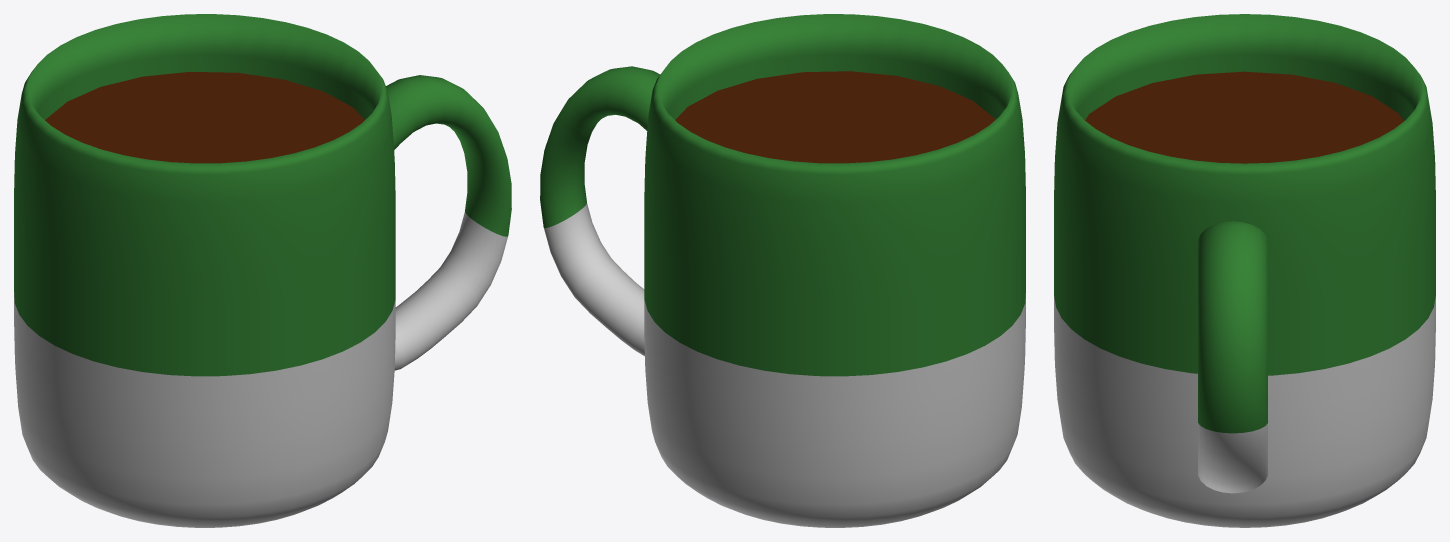
File: coffee.fbx
3 renders of one model, left to right at view 1: azimuth 30°, elevation 25°; view 2: azimuth 150°, elevation 25°; view 3: azimuth 270°, elevation 25°, orthographic.
Parts seen in each view (by area): view 1: cup of coffe; view 2: cup of coffe; view 3: cup of coffe.
Boxes of the visible parts, box(x1,y1,x2,y2) form: cup of coffe: box(14, 14, 511, 527); cup of coffe: box(540, 14, 1025, 527); cup of coffe: box(1054, 14, 1435, 527).
Bounding box in the file's own units: 379 × 305 × 274.
